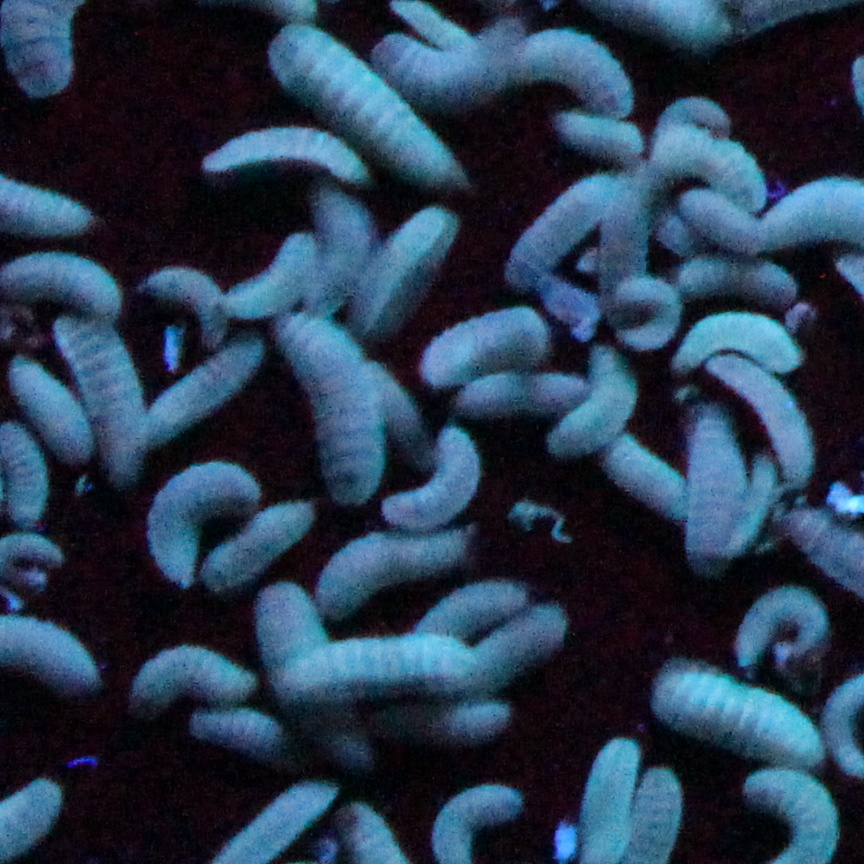larve: (263, 13, 463, 193), (644, 651, 829, 782), (275, 308, 388, 513), (136, 436, 272, 599), (306, 521, 475, 621), (272, 635, 483, 703), (190, 115, 377, 187), (501, 172, 611, 293), (424, 294, 554, 390), (721, 579, 842, 682), (547, 336, 637, 472), (663, 300, 811, 382), (365, 200, 455, 333), (388, 417, 488, 536), (203, 489, 319, 587), (118, 638, 268, 713), (140, 248, 244, 348), (609, 440, 727, 528), (547, 105, 650, 162)
